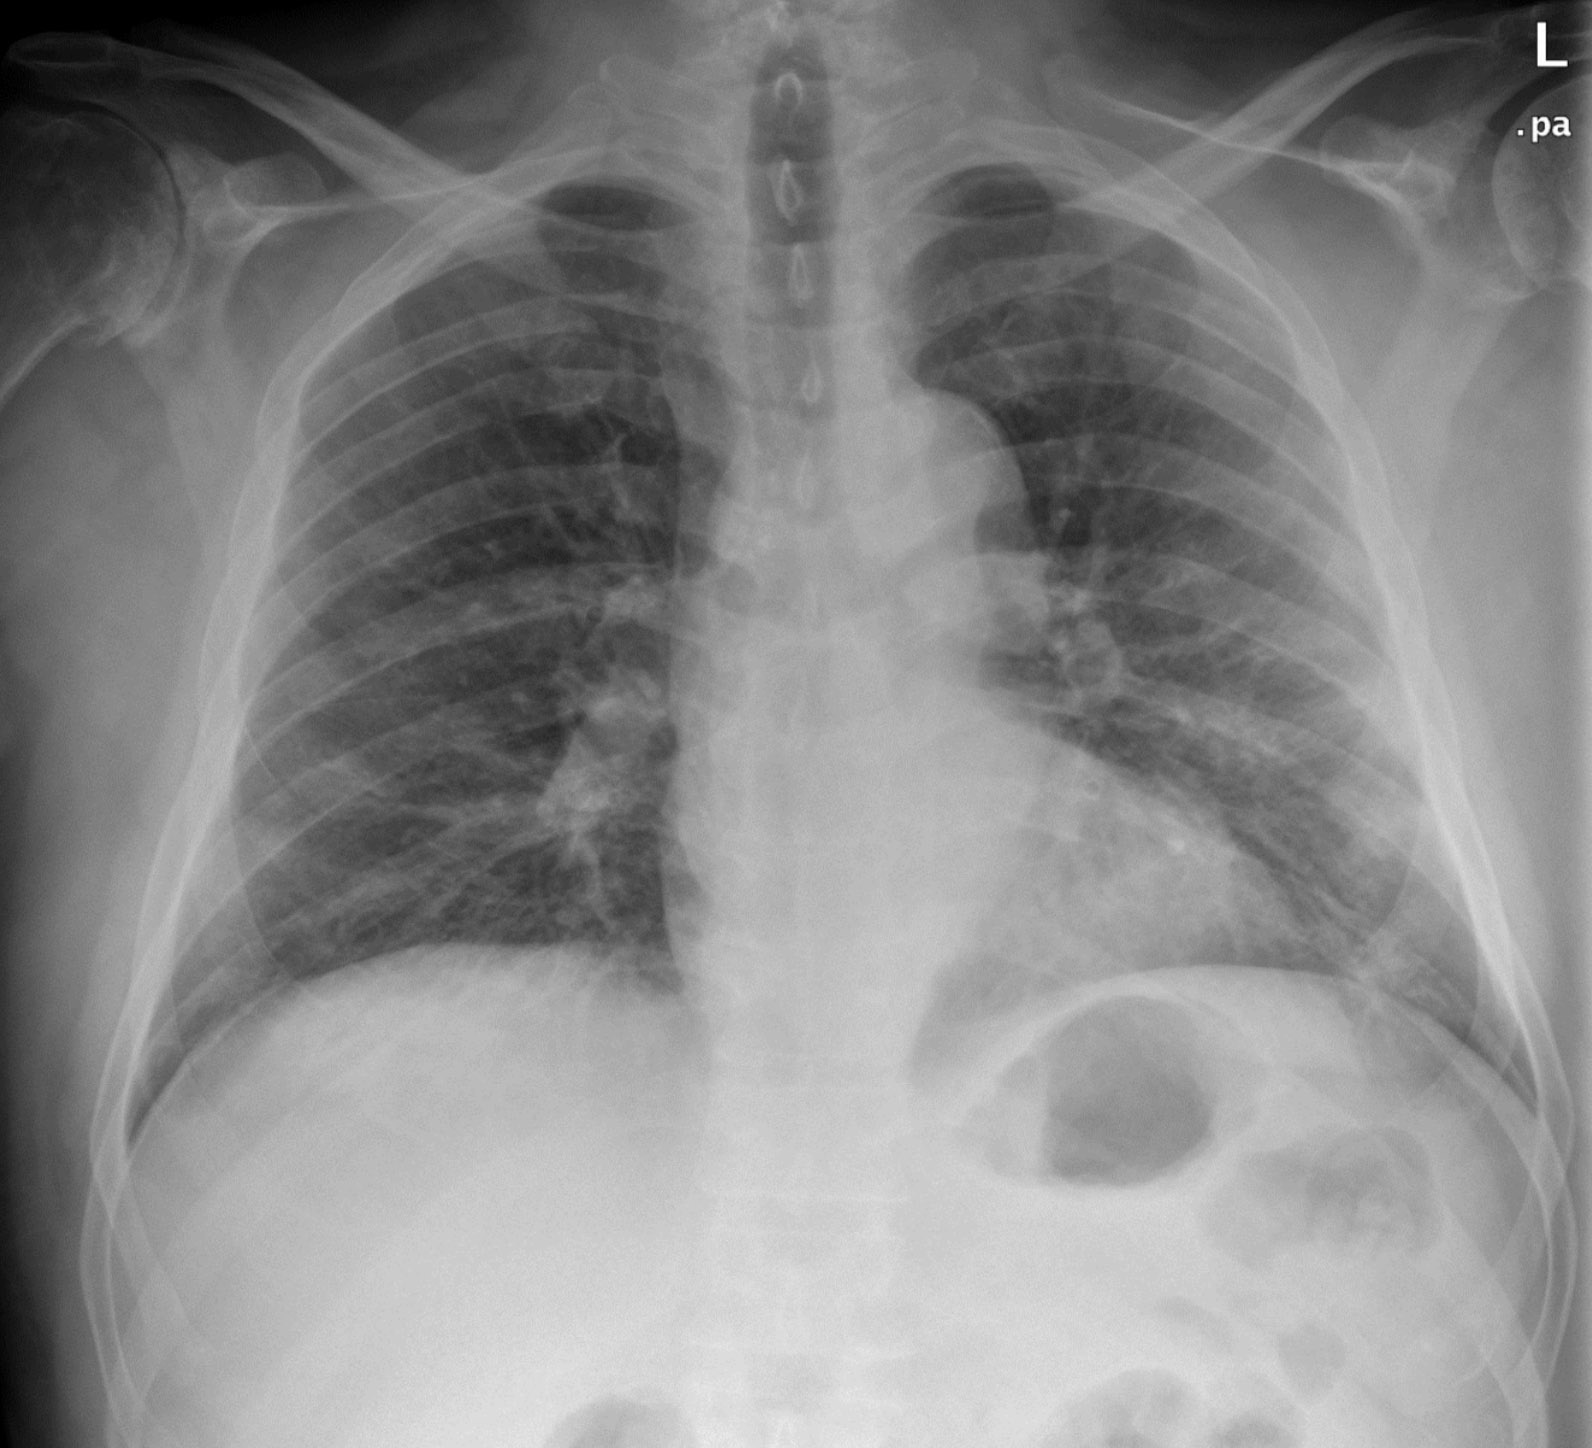Mildw: (919, 178, 1537, 1117), (130, 166, 727, 1128)
